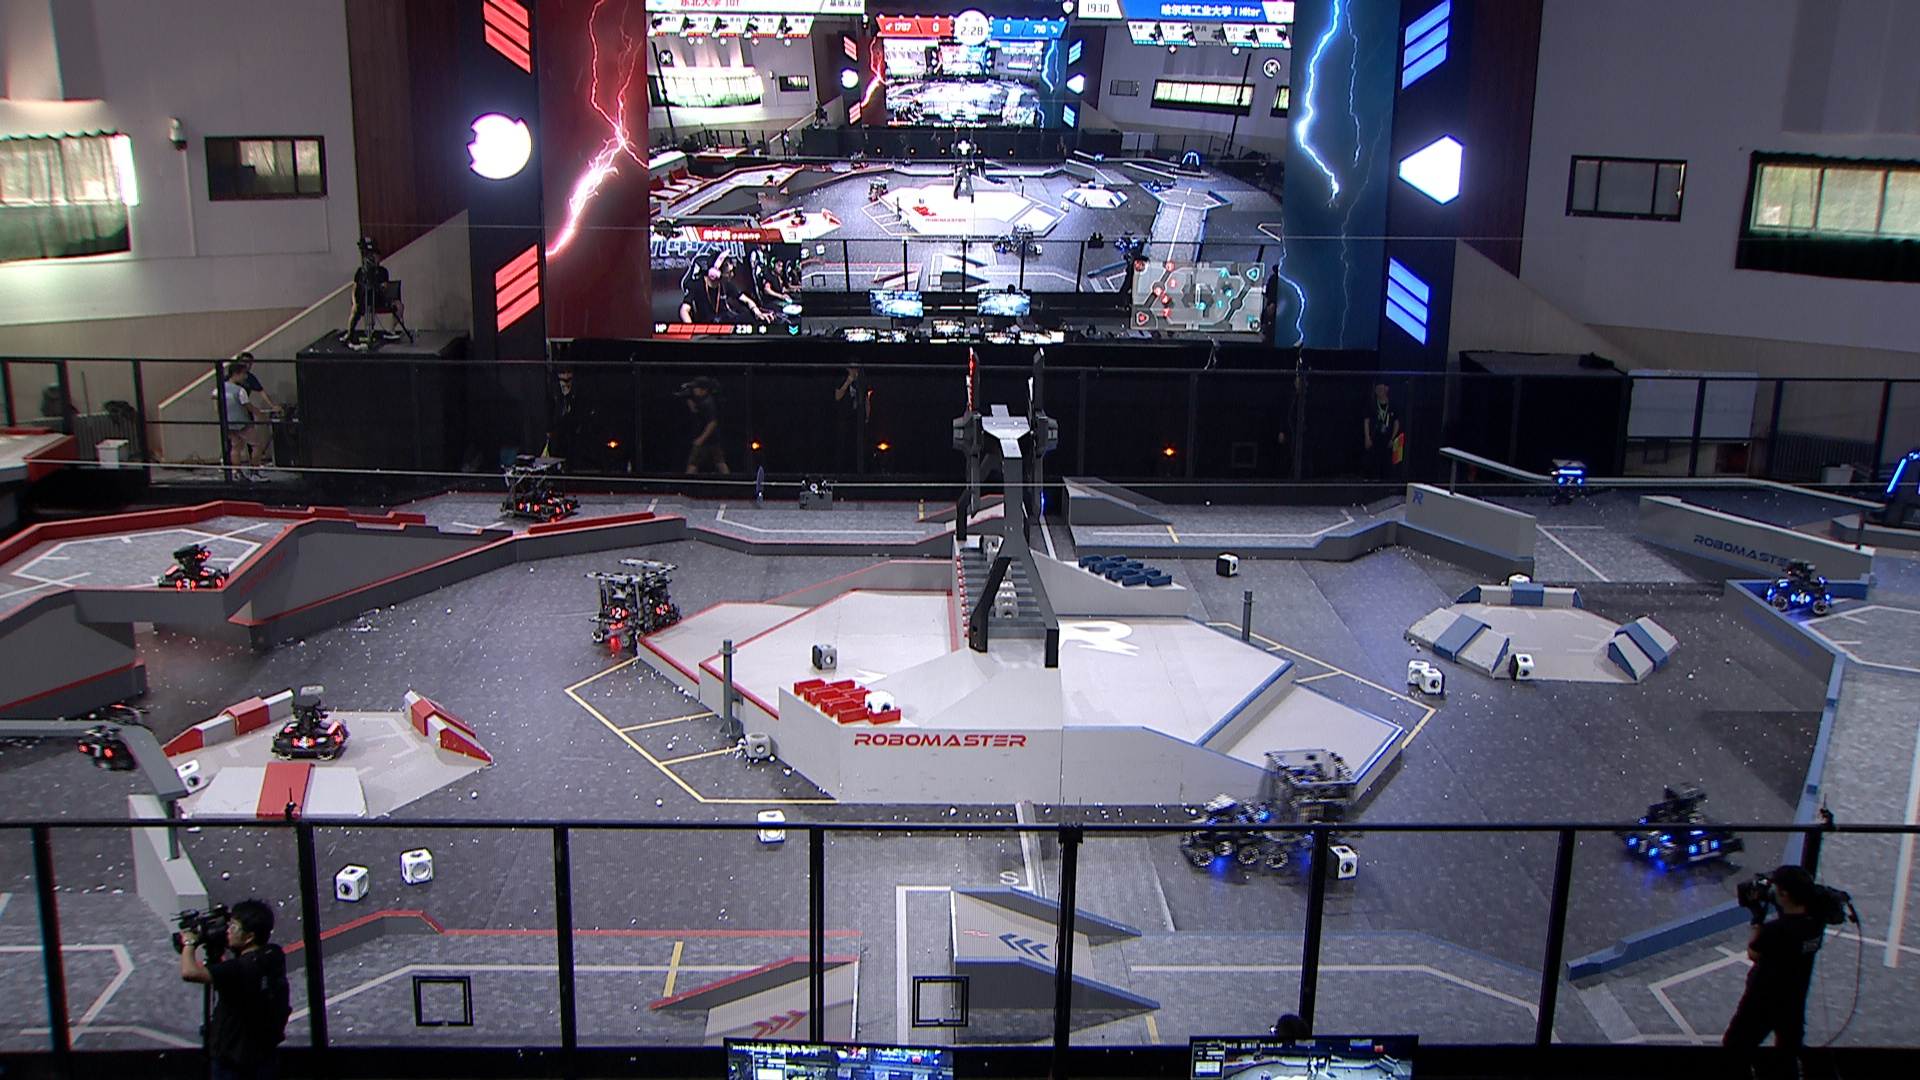armor: (1887, 458, 1909, 495), (1629, 836, 1659, 858), (78, 744, 115, 760), (1689, 839, 1720, 856), (1215, 839, 1240, 856), (291, 736, 316, 752), (1251, 804, 1273, 823), (1647, 829, 1673, 844), (1179, 831, 1197, 849), (1789, 591, 1812, 605), (1557, 475, 1584, 487), (518, 501, 542, 514), (196, 566, 220, 579), (212, 568, 229, 585), (332, 727, 348, 744), (611, 607, 629, 621), (174, 578, 196, 589), (282, 719, 297, 735), (655, 603, 670, 617), (1776, 576, 1792, 589), (556, 502, 572, 514), (546, 495, 564, 504)
base: (1865, 451, 1920, 533)
car: (1240, 749, 1367, 869), (1618, 783, 1746, 877), (584, 556, 683, 659), (1178, 794, 1259, 869), (501, 452, 583, 526), (266, 694, 352, 760), (1766, 556, 1836, 618), (160, 542, 233, 597)
ignore: (1112, 229, 1145, 255), (1011, 225, 1038, 253), (868, 174, 891, 202), (1178, 150, 1204, 174), (847, 150, 870, 171), (992, 233, 1015, 252), (789, 207, 808, 228), (761, 171, 781, 189), (742, 214, 764, 228), (1147, 177, 1166, 193), (1093, 152, 1106, 164)
watcher: (76, 703, 152, 774), (1548, 460, 1588, 508)
